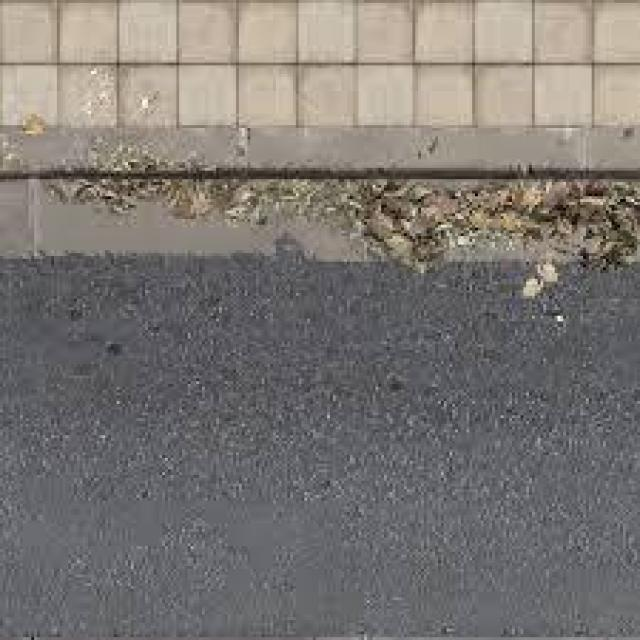curb: (8, 132, 637, 268)
